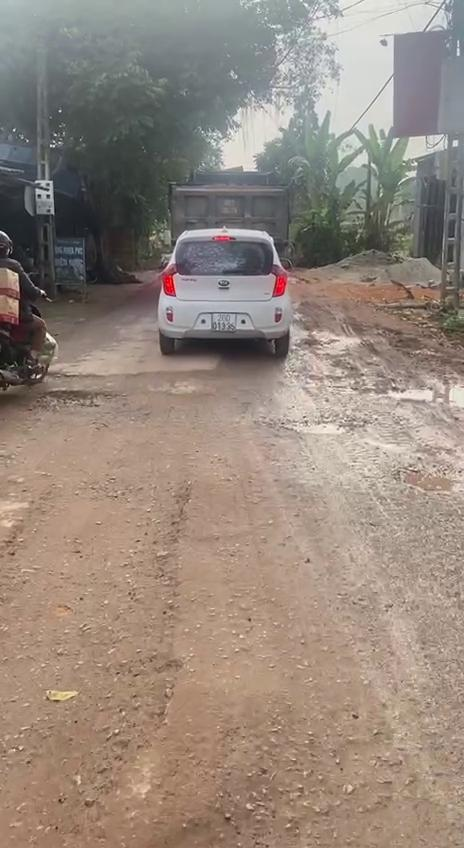pothole: (0, 473, 187, 827), (25, 387, 129, 420), (282, 411, 360, 437)
